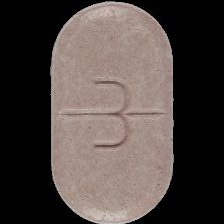51672-4030: (0, 0, 224, 224)
